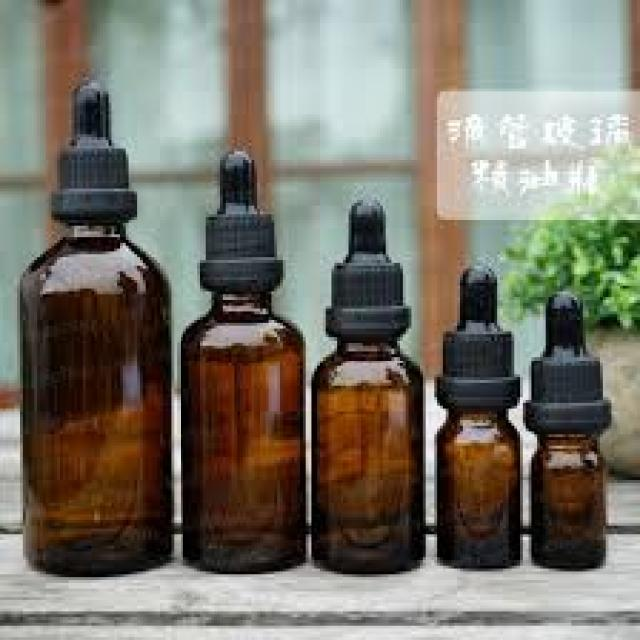glass: (180, 294, 423, 571), (20, 234, 169, 571), (437, 409, 517, 563), (531, 437, 603, 563)
